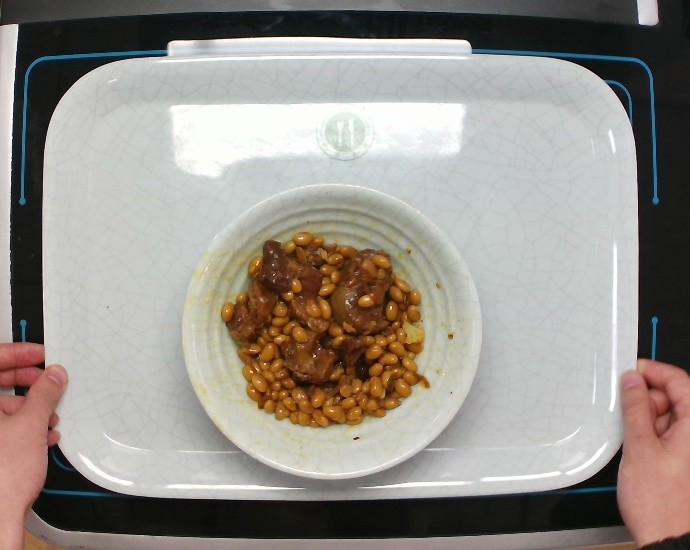JYsf-Xiao_Tang_Wan: (177, 178, 497, 487)
